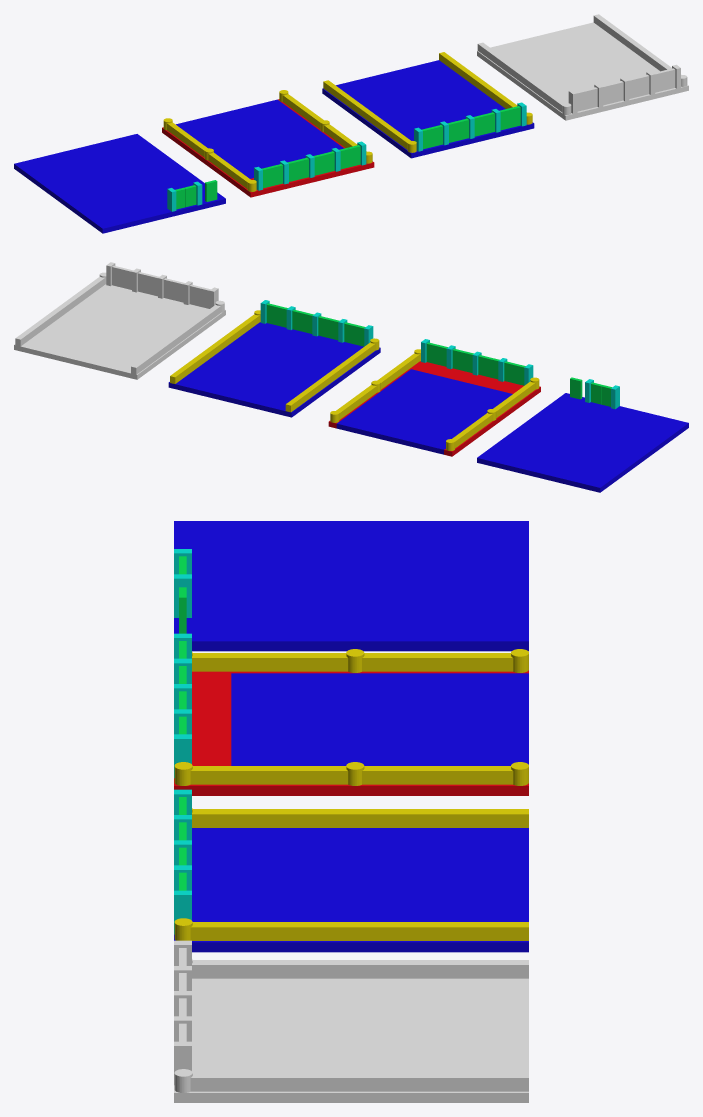
3 renders of one model, top to bottom at view 1: azimuth 30°, elevation 25°; view 2: azimuth 150°, elevation 25°; view 3: azimuth 270°, elevation 25°, orthographic. The views are drawn at different scales.
Visible parts, largest first — view 1: Cube.046, Cube.002, Cube, Cube.032, Cube.015, Cube.030, Cube.016, Cube.031, Cube.053, Cube.052, Cube.049, Cube.048 (+1 smaller); view 2: Cube.046, Cube.002, Cube, Cube.032, Cube.053, Cube.016, Cube.030, Cube.015, Cube.031, Cube.052, Cube.049, Cube.047 (+2 smaller); view 3: Cube.046, Cube, Cube.002, Cube.032, Cube.016, Cube.031, Cube.015, Cube.030, Cube.051, Cube.053, Cube.047, Cube.049 (+3 smaller).
Part boxes in pixels (x1=…): Cube.046: x1=14, y1=134, x2=225, y2=233; Cube.002: x1=322, y1=60, x2=534, y2=158; Cube: x1=477, y1=22, x2=688, y2=120; Cube.032: x1=176, y1=99, x2=343, y2=178; Cube.015: x1=477, y1=42, x2=565, y2=111; Cube.030: x1=323, y1=80, x2=410, y2=149; Cube.016: x1=593, y1=14, x2=681, y2=74; Cube.031: x1=439, y1=52, x2=517, y2=108; Cube.053: x1=250, y1=164, x2=366, y2=195; Cube.052: x1=162, y1=127, x2=258, y2=197; Cube.049: x1=208, y1=152, x2=250, y2=188; Cube.048: x1=282, y1=94, x2=323, y2=129; Cube.046: x1=477, y1=393, x2=688, y2=492; Cube.002: x1=168, y1=322, x2=380, y2=417; Cube: x1=14, y1=284, x2=225, y2=379; Cube.032: x1=336, y1=369, x2=512, y2=454; Cube.053: x1=411, y1=362, x2=523, y2=393; Cube.016: x1=15, y1=276, x2=105, y2=346; Cube.030: x1=285, y1=342, x2=375, y2=412; Cube.015: x1=131, y1=305, x2=220, y2=374; Cube.031: x1=170, y1=314, x2=259, y2=383; Cube.052: x1=444, y1=386, x2=540, y2=456; Cube.049: x1=493, y1=381, x2=535, y2=417; Cube.047: x1=377, y1=353, x2=419, y2=389; Cube.046: x1=174, y1=521, x2=528, y2=651; Cube: x1=174, y1=978, x2=528, y2=1102; Cube.002: x1=174, y1=828, x2=528, y2=952; Cube.032: x1=231, y1=673, x2=528, y2=765; Cube.016: x1=190, y1=1073, x2=528, y2=1091; Cube.031: x1=190, y1=922, x2=528, y2=940; Cube.015: x1=192, y1=960, x2=528, y2=978; Cube.030: x1=192, y1=809, x2=528, y2=827; Cube.051: x1=174, y1=778, x2=528, y2=795; Cube.053: x1=192, y1=673, x2=231, y2=765; Cube.047: x1=190, y1=766, x2=348, y2=784; Cube.049: x1=192, y1=653, x2=348, y2=671.
Bounding box in the file's own units: 14944 × 600 × 3921.
